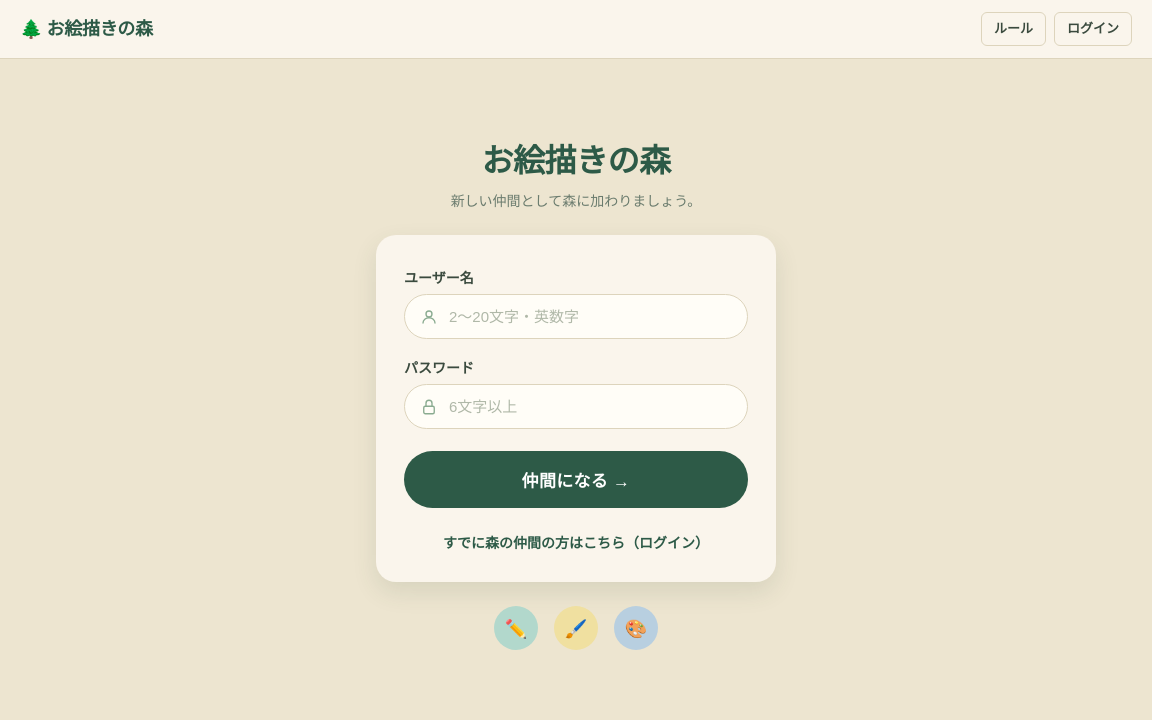
Test: Register ページ › 未入力で送信するとエラーが表示される
What coordinates should you click on to do the following:
click the button "仲間になる →"
I would click on:
 (576, 480)
Its box is [404, 451, 748, 508].
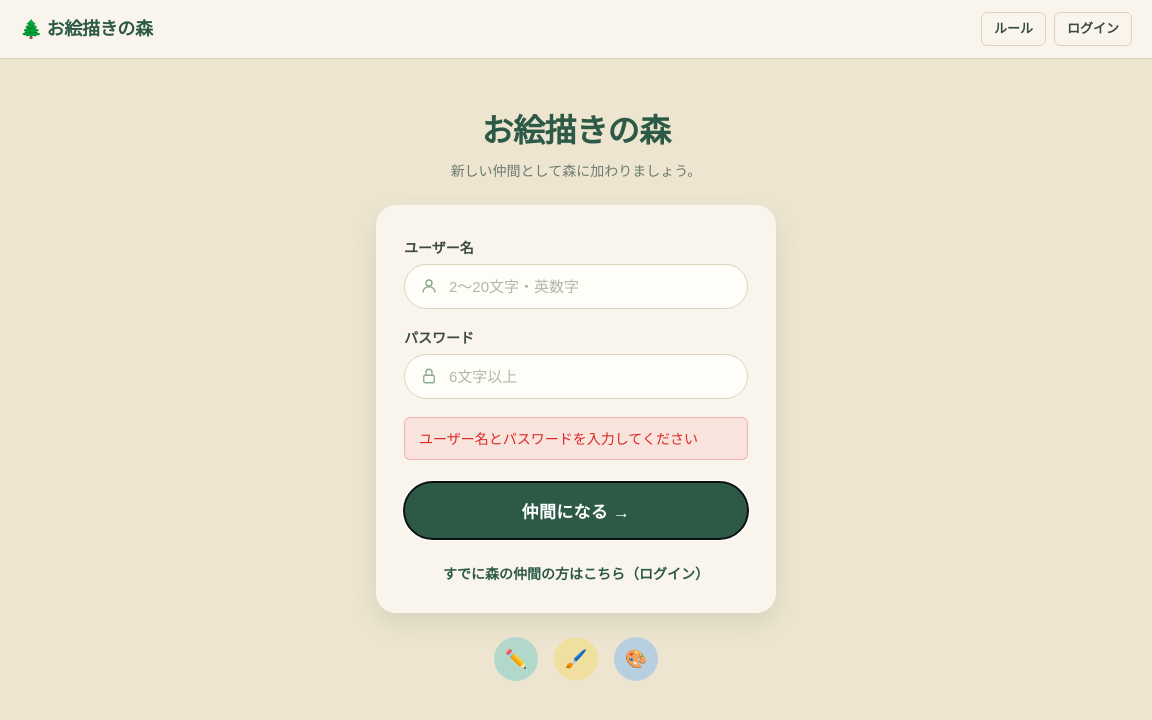
expect the message reads "ユーザー名とパスワードを入力してください": met, box [419, 429, 698, 448]
